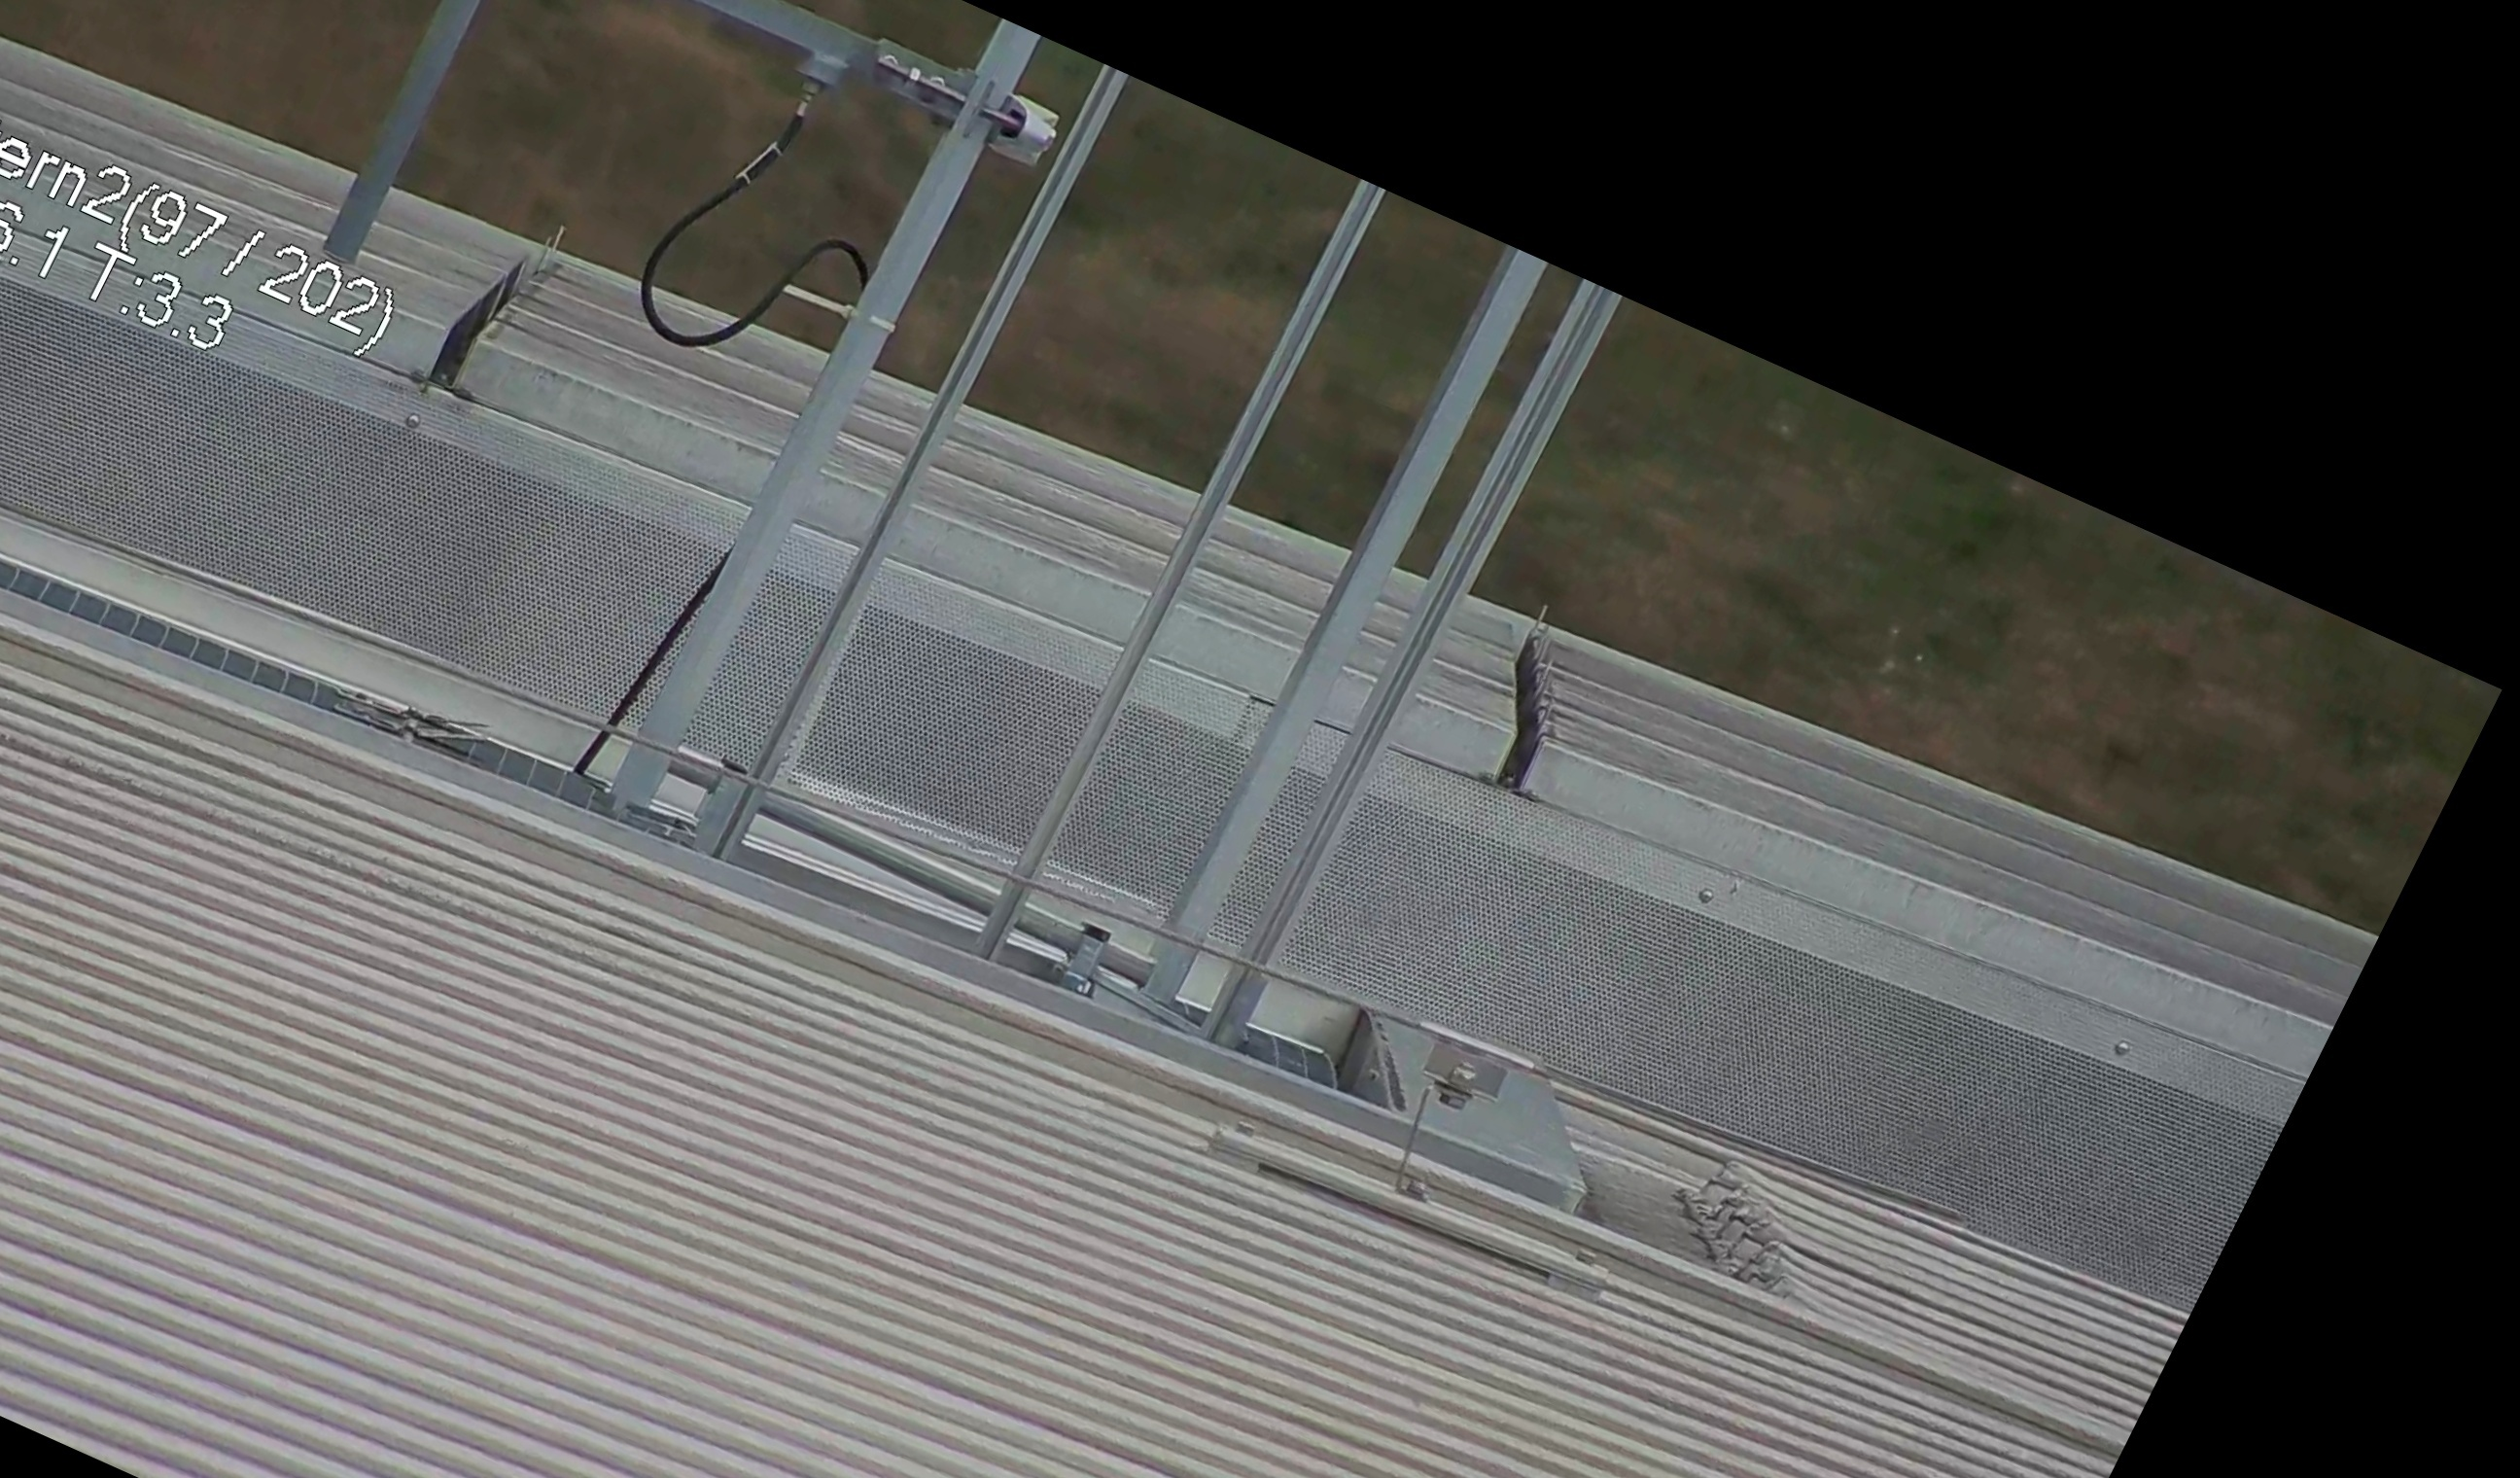Other: (1440, 595, 1637, 827)
